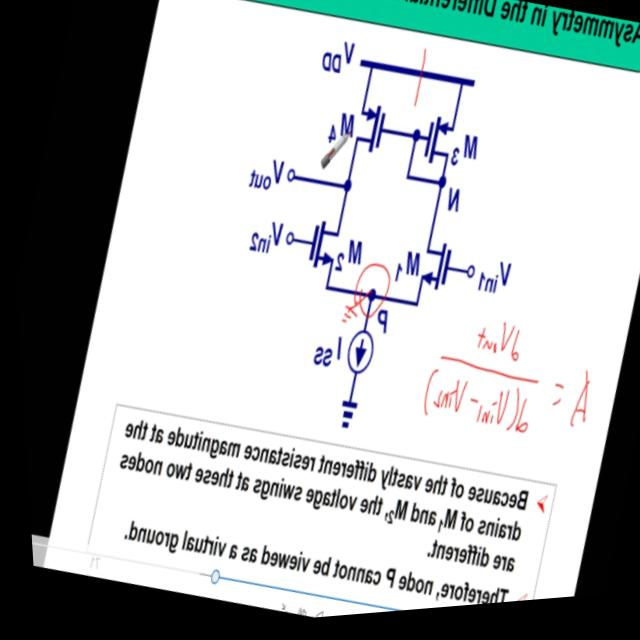panseo: (387, 285, 617, 495)
